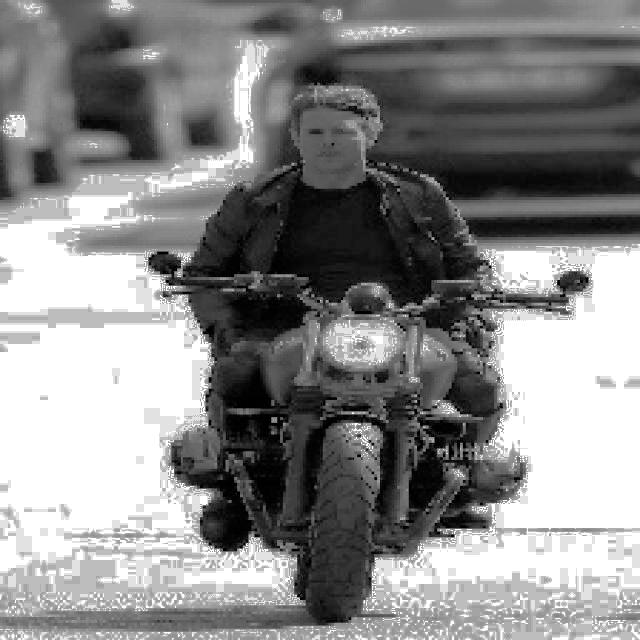Bike: (215, 283, 493, 631)
